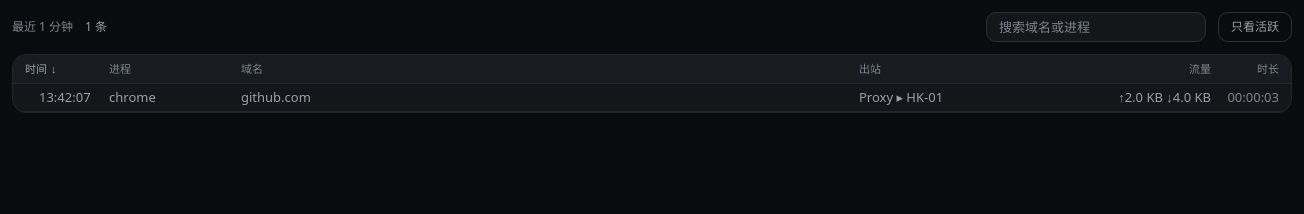
Test: ConnectionsPage › 没有匹配项时显示「没有匹配的连接」，列头仍在
Check: the text "chrome" is shown, box [109,88,156,106]
In the search field labelled "搜索域名或进程": (1096, 27) [986,12,1206,42], type "no-such-host"
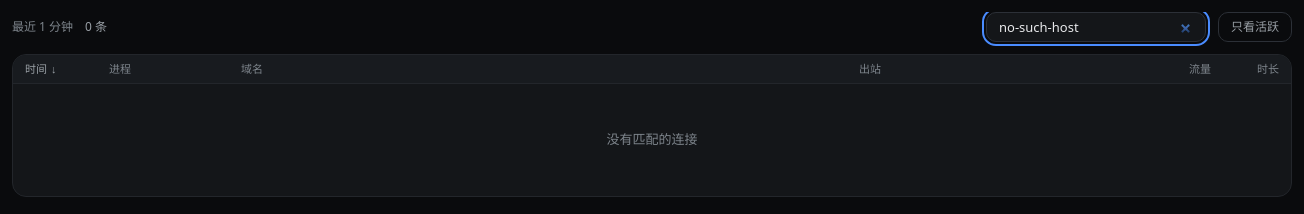
Check: the number of column headings is 6, box [25,61,56,77]; [109,61,131,76]; [241,61,263,76]; [859,61,881,76]; [1189,61,1211,76]; [1257,61,1279,76]
Check: the text "没有匹配的连接" is shown, box [606,130,698,150]
